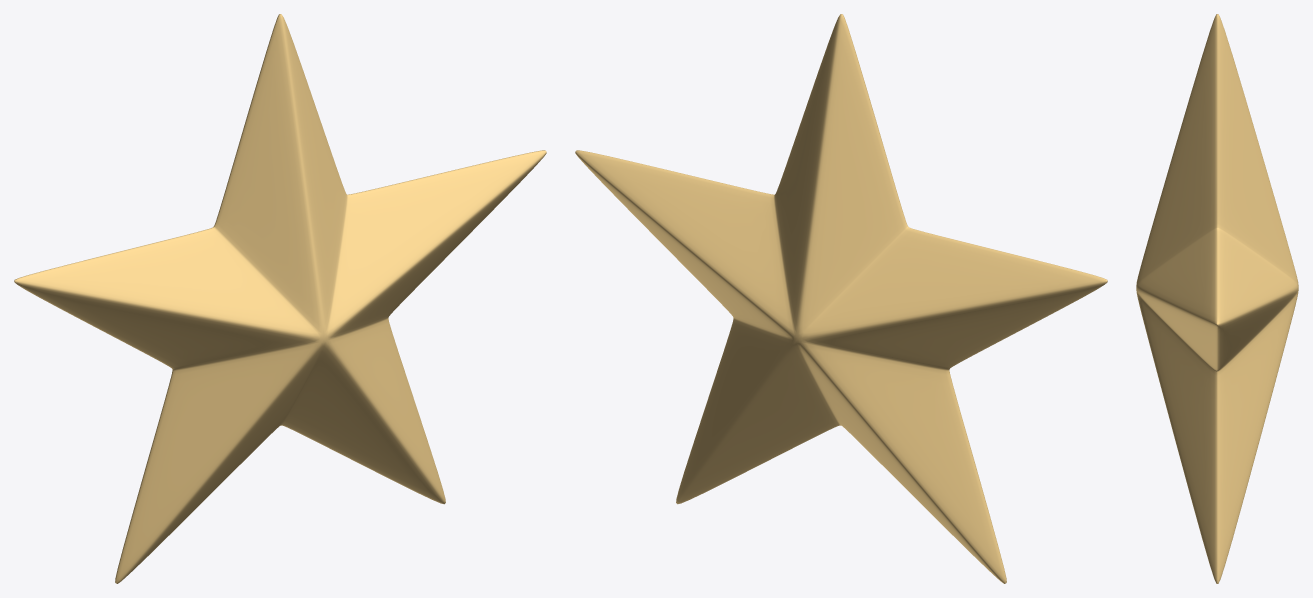
Rendered from star_metal.glb.
3 views of the same model, side by side, from view 1: azimuth 30°, elevation 25°; view 2: azimuth 150°, elevation 25°; view 3: azimuth 270°, elevation 25° (orthographic). The views are drawn at different scales.
Visible parts, largest first — view 1: Star; view 2: Star; view 3: Star.
Boxes of the visible parts, x1,y1,x2,y2 form: Star: (14, 14, 546, 583); Star: (575, 14, 1107, 583); Star: (1136, 14, 1298, 583).
Bounding box in the file's own units: 0.1564 × 0.1488 × 0.0442.
